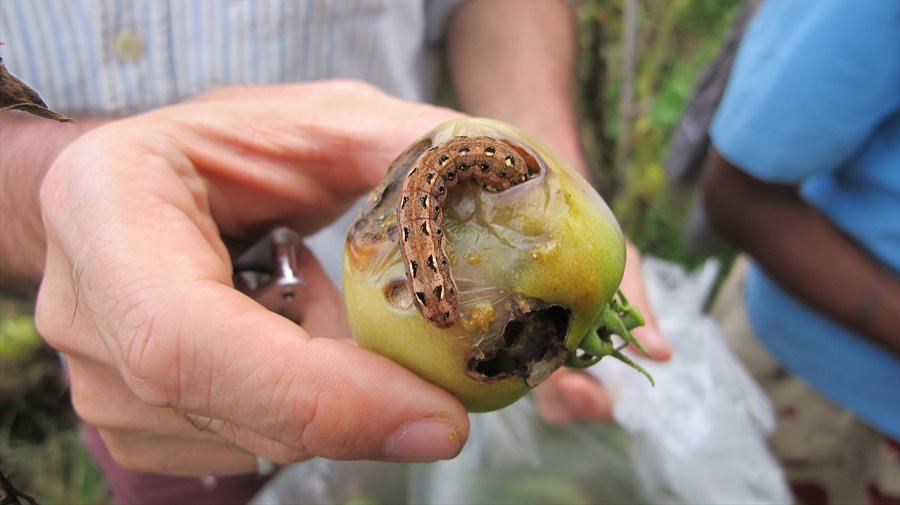Armyworm: (393, 134, 536, 335)
